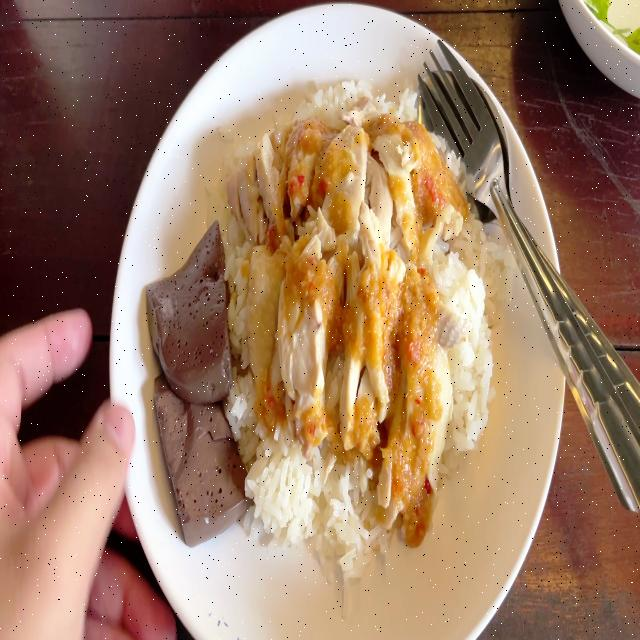boiled_chicken: (240, 126, 442, 466)
boiled_chicken_blood_jelly: (139, 205, 232, 399), (151, 361, 246, 538)
chicken_rice: (139, 71, 505, 584)
